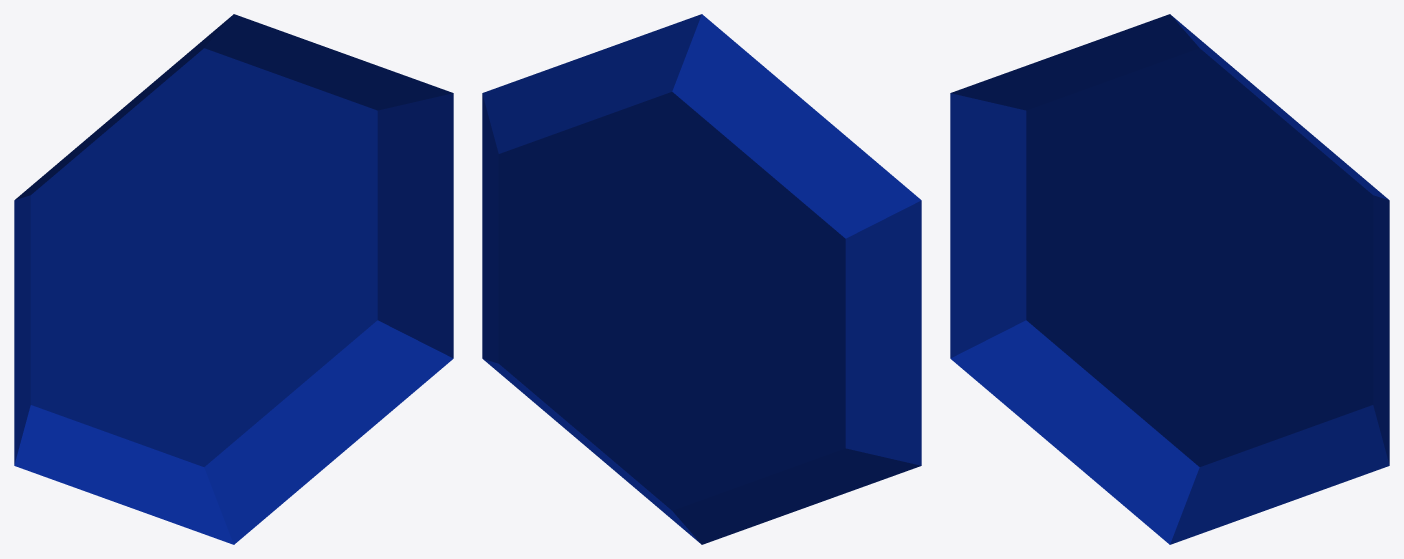
File: button-background0.glb
3 renders of one model, left to right at view 1: azimuth 30°, elevation 25°; view 2: azimuth 150°, elevation 25°; view 3: azimuth 330°, elevation 25°, orthographic.
Visible parts, largest first — view 1: base-plate; view 2: base-plate; view 3: base-plate.
Boxes of the visible parts, x1,y1,x2,y2 form: base-plate: (14,14,453,544); base-plate: (482,14,921,544); base-plate: (950,14,1389,544).
Bounding box in the file's own units: 1.73 × 2 × 0.2031.
Materials: 1 (1 with a texture image).
